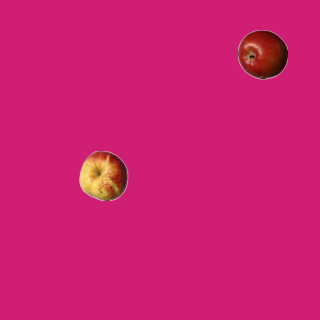Apple Braeburn: (237, 29, 287, 79)
Apple Red Yellow 1: (78, 150, 128, 200)
